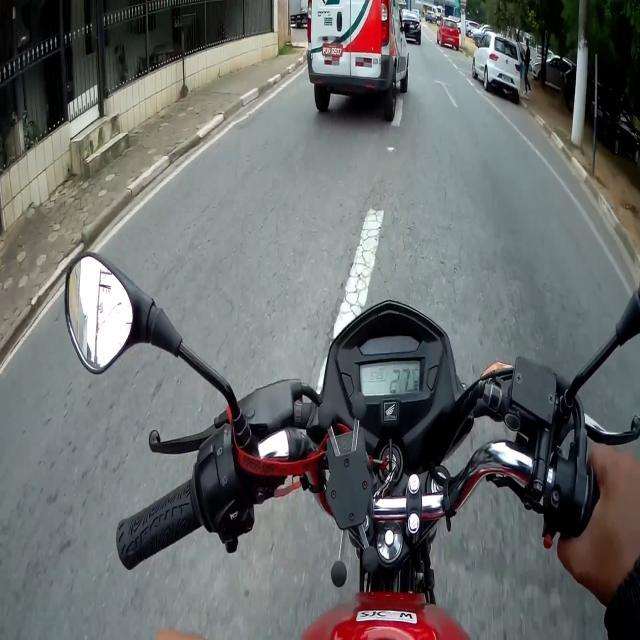Placa_mercosul_carro: (322, 43, 343, 57)
